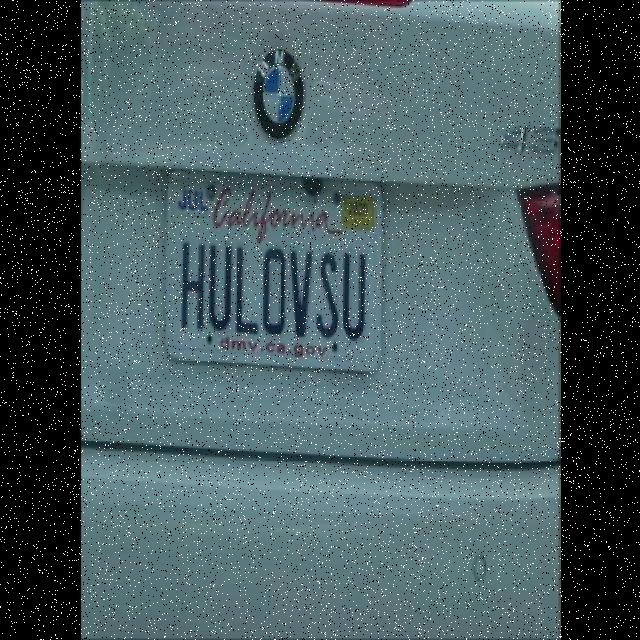licenseplate: (167, 173, 385, 384)
